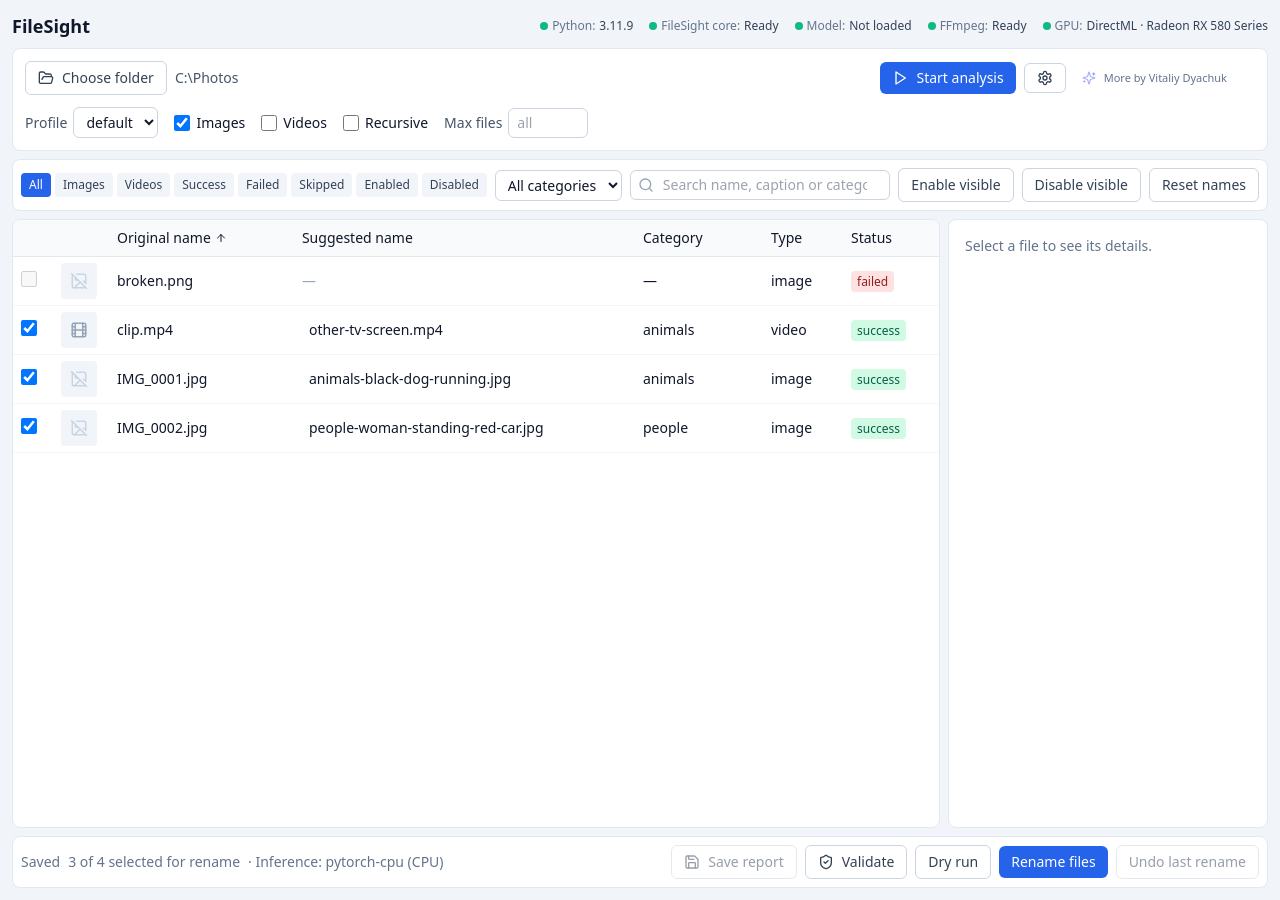
Test: filters and search › searches by caption
In the search field named "search files": (760, 185) [630,170,890,200], type "woman"
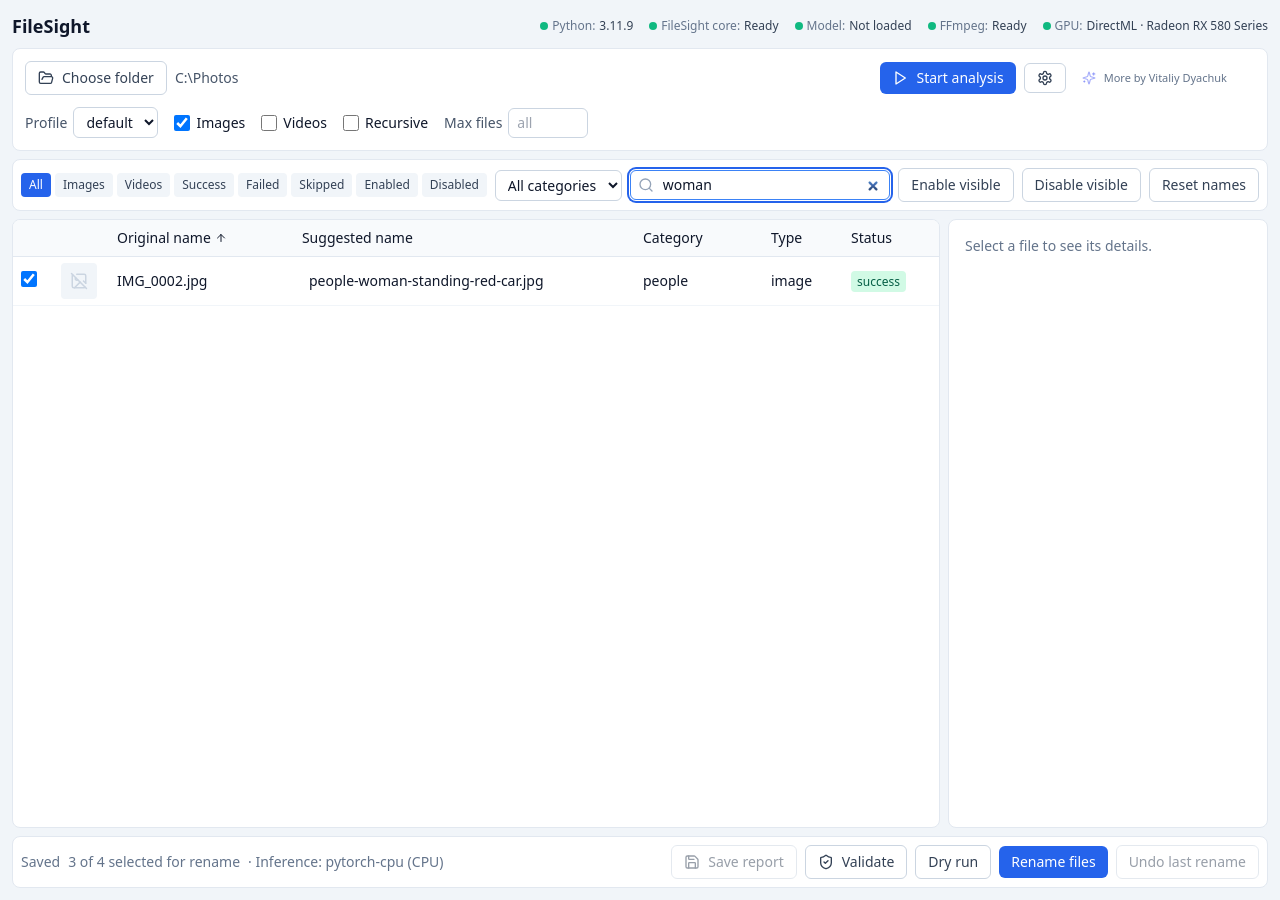
Expected: the text "IMG_0002.jpg" is shown, [109,257,294,306]
Expected: the text "IMG_0001.jpg" is gone
